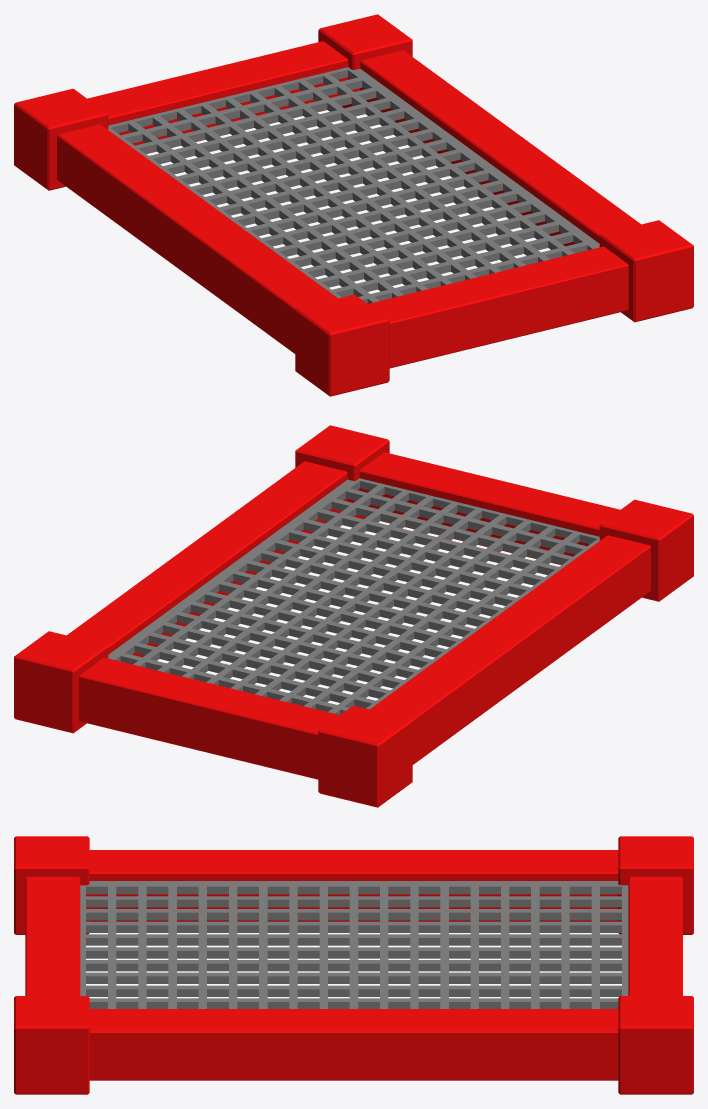
The model's file is BridgeOneSegmentRed.fbx.
3 views of the same model, one above another, from view 1: azimuth 30°, elevation 25°; view 2: azimuth 150°, elevation 25°; view 3: azimuth 270°, elevation 25° (orthographic). The views are drawn at different scales.
Visible parts, largest first — view 1: Platform, Grate; view 2: Platform, Grate; view 3: Platform, Grate.
Part boxes in pixels (<box>): Platform: <box>14,14,693,396</box>; Grate: <box>108,67,599,303</box>; Platform: <box>14,425,693,807</box>; Grate: <box>108,478,599,714</box>; Platform: <box>14,836,693,1094</box>; Grate: <box>80,881,628,1008</box>.
Bounding box in the file's own units: 6 × 1 × 9.
